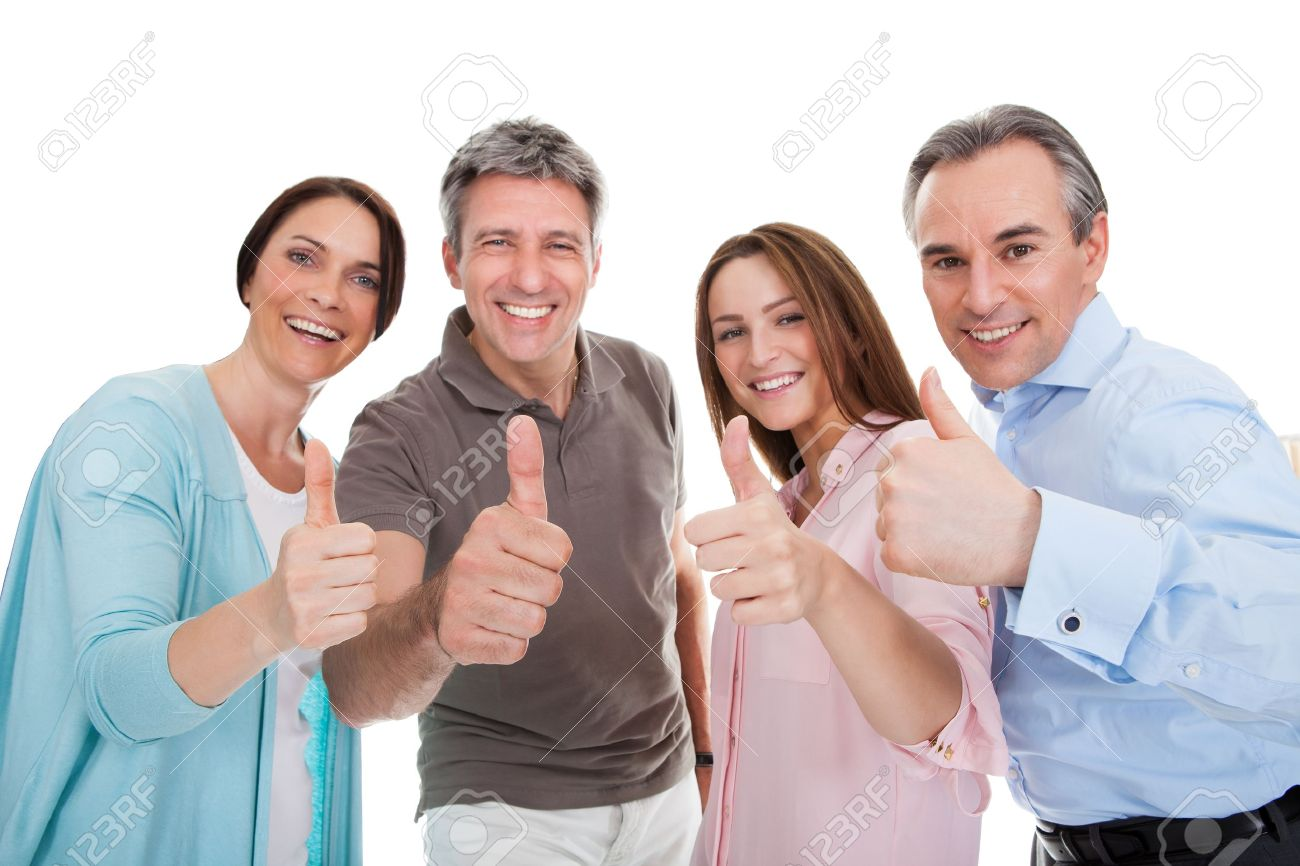bare: (920, 276, 1083, 390), (240, 283, 384, 385), (452, 258, 584, 360), (718, 348, 846, 427)
